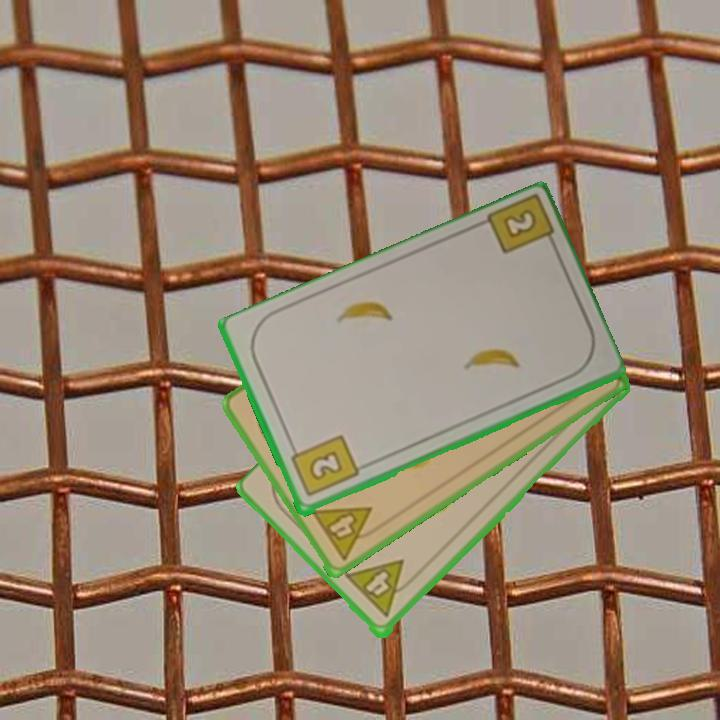2b: (287, 431, 361, 500), (481, 194, 560, 258)
4p: (343, 556, 420, 622), (307, 503, 385, 564)
